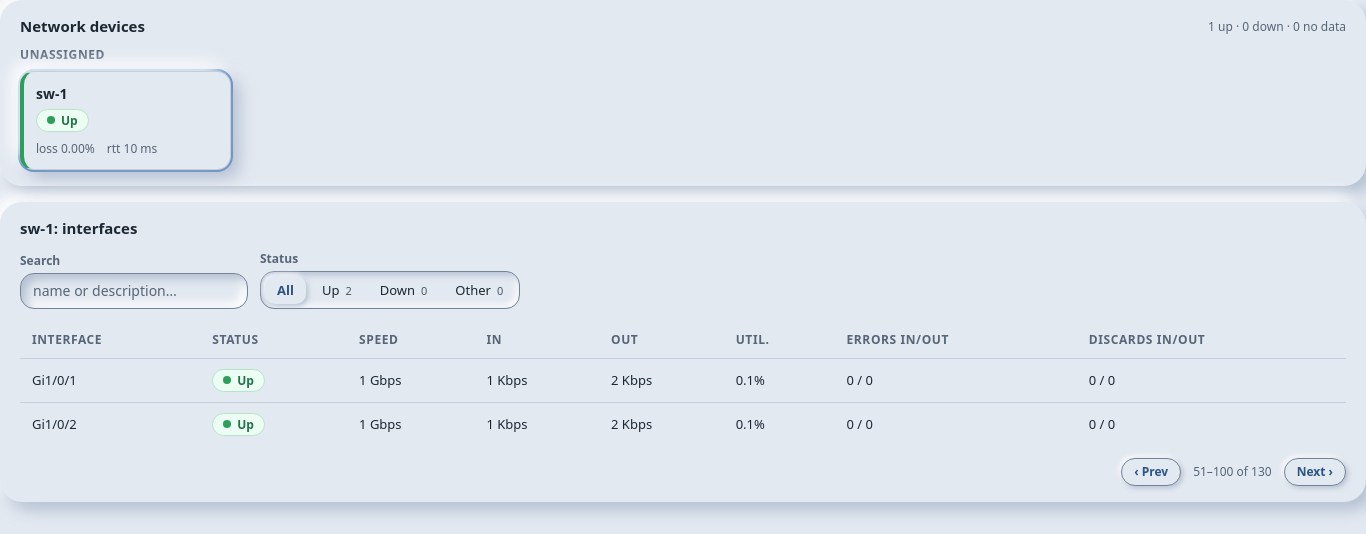
the pager on Network › names the rows on screen and how many there are, and Prev goes back a page
Step 1. Click the button "‹ Prev" → [1151, 472], box [1121, 458, 1181, 486]
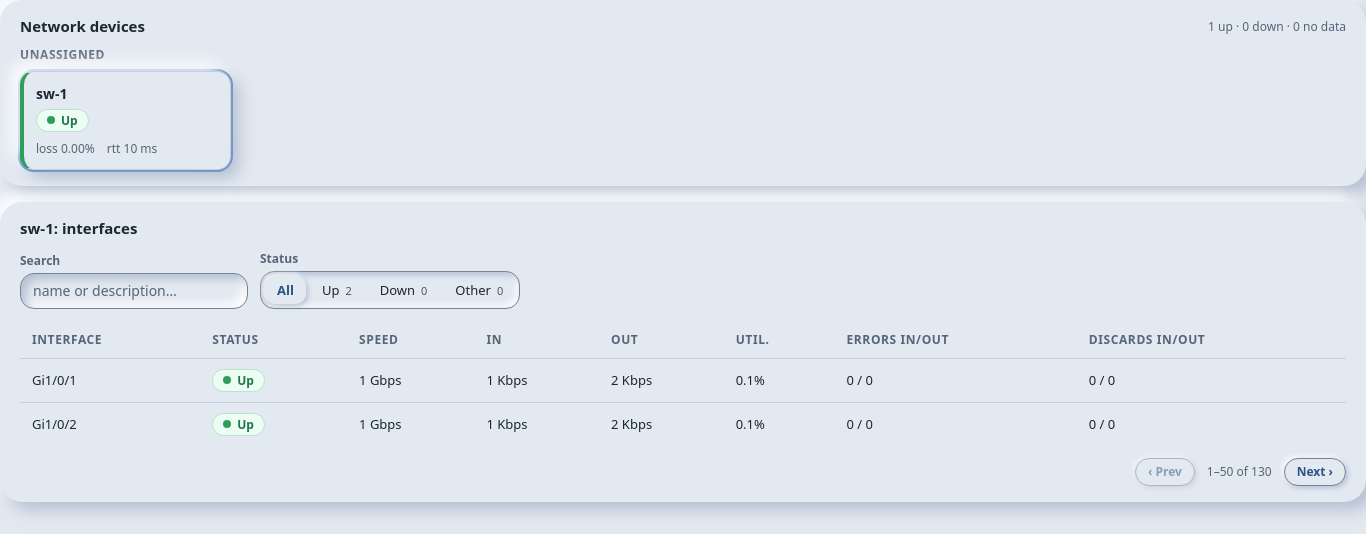
expect the button "‹ Prev" is disabled: met, box [1135, 458, 1195, 486]
